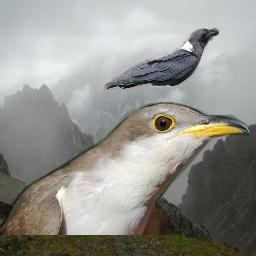Crow: (104, 28, 220, 91)
Cuckoo: (1, 102, 250, 235)
